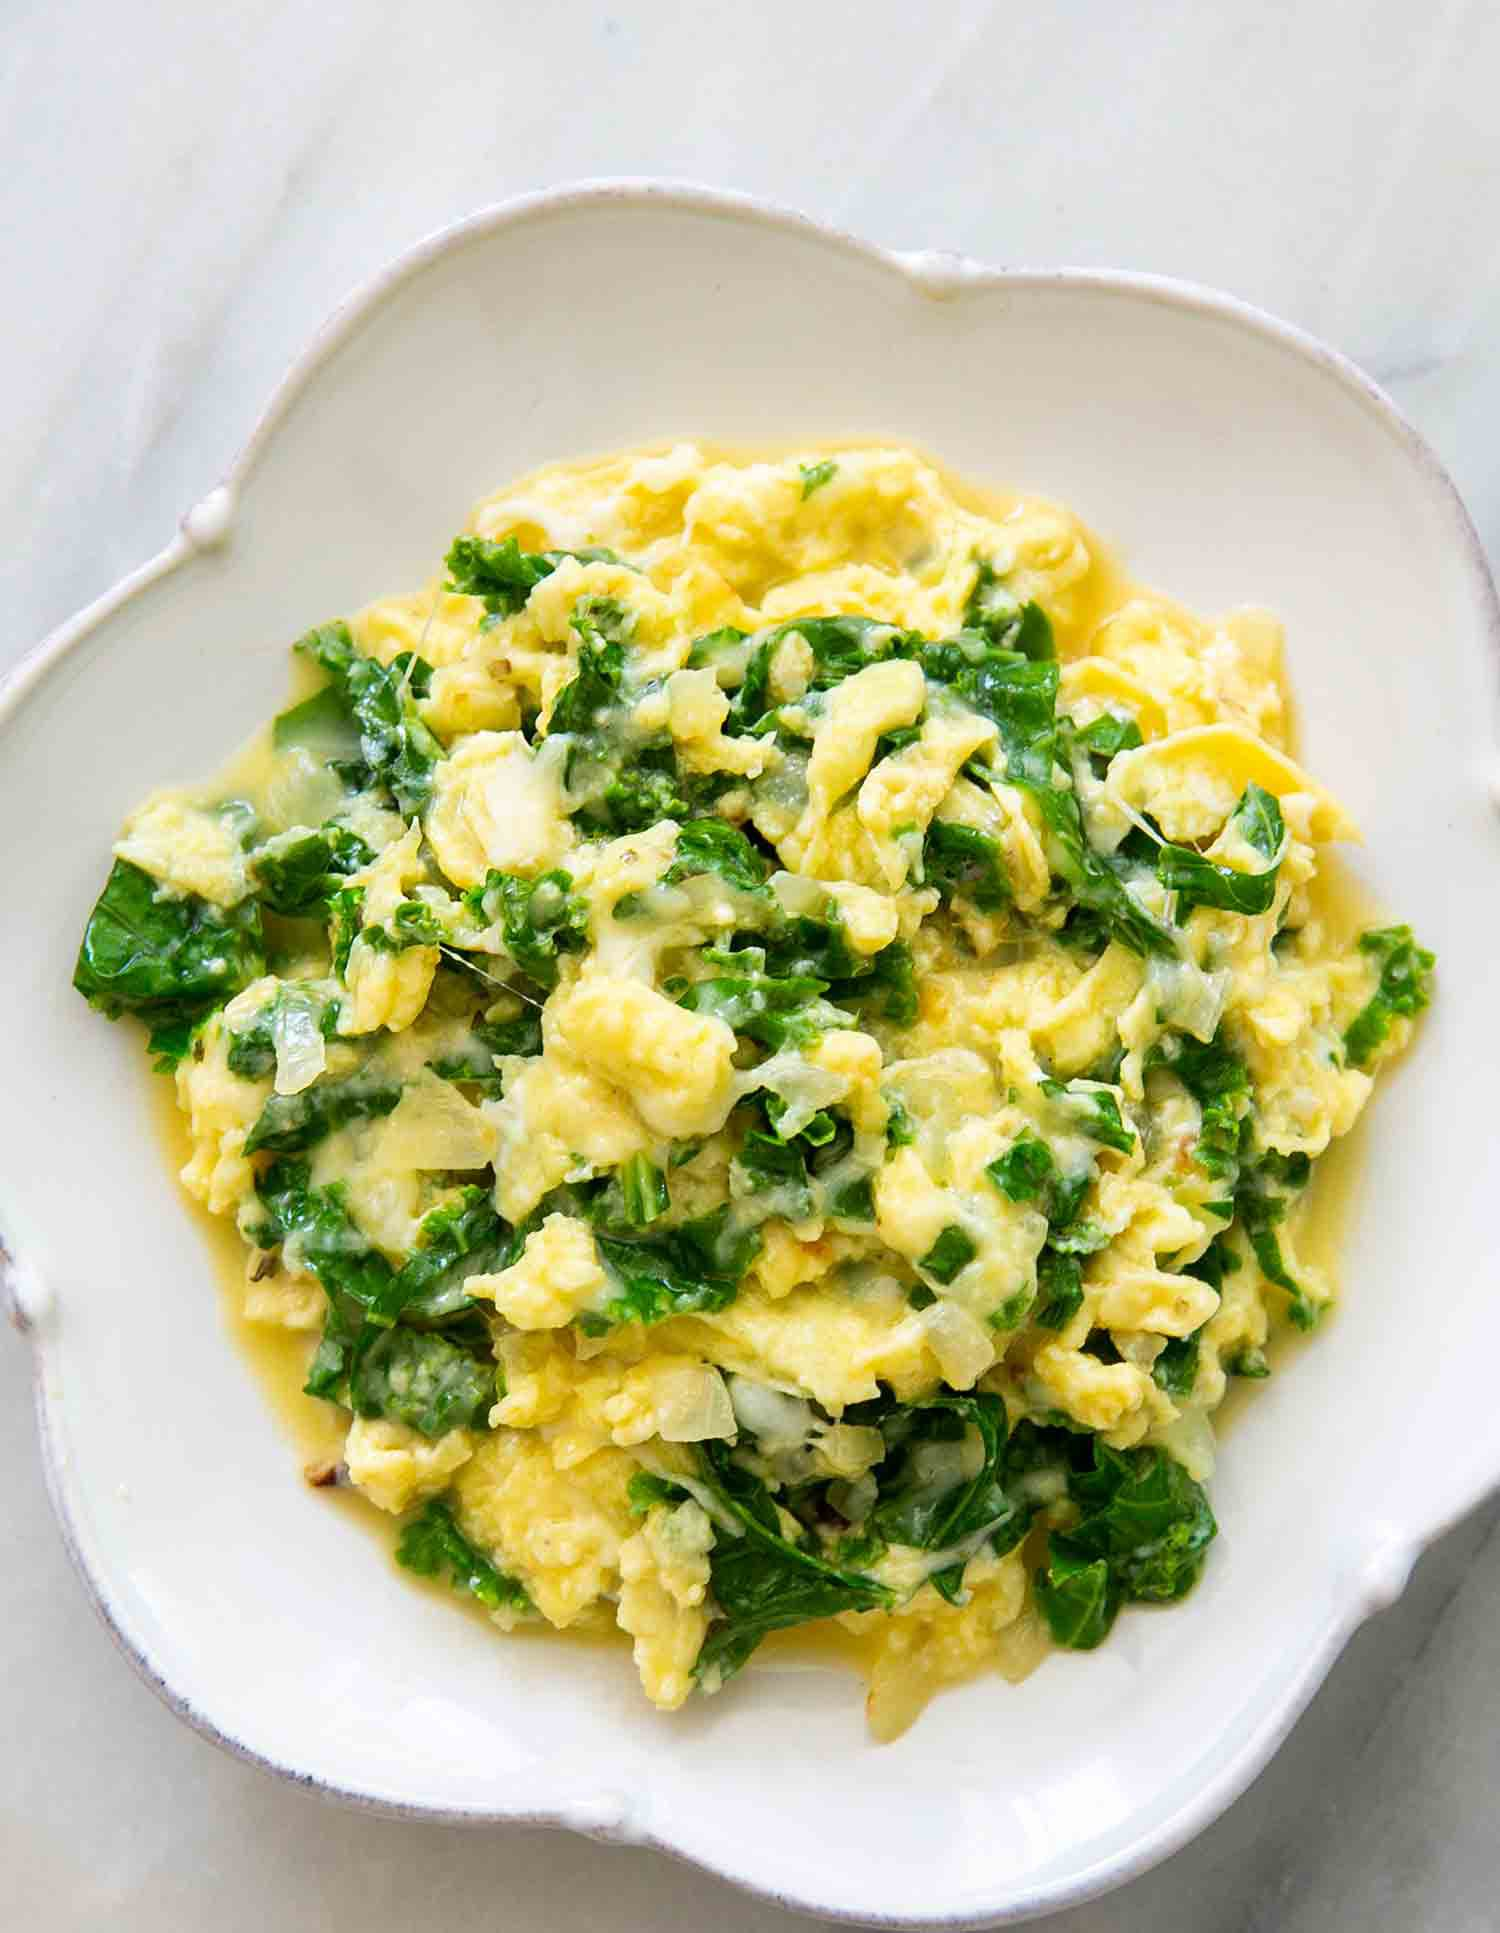scrambled-egg: (93, 457, 1429, 1746)
